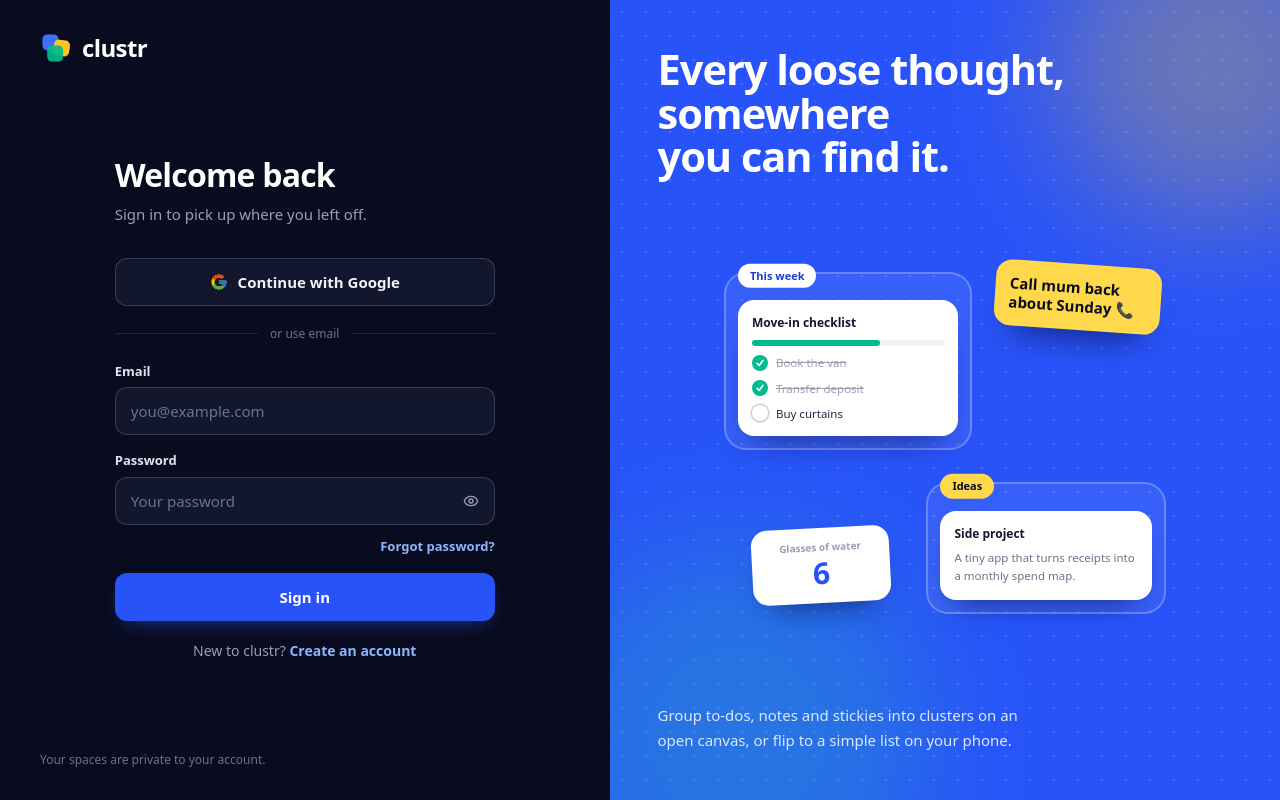
Scenario: sign-in guard › asks new users to confirm their email instead of opening a workspace
Click the button "Create an account" at [353, 651], box top-left (289, 641), bottom-right (416, 661)
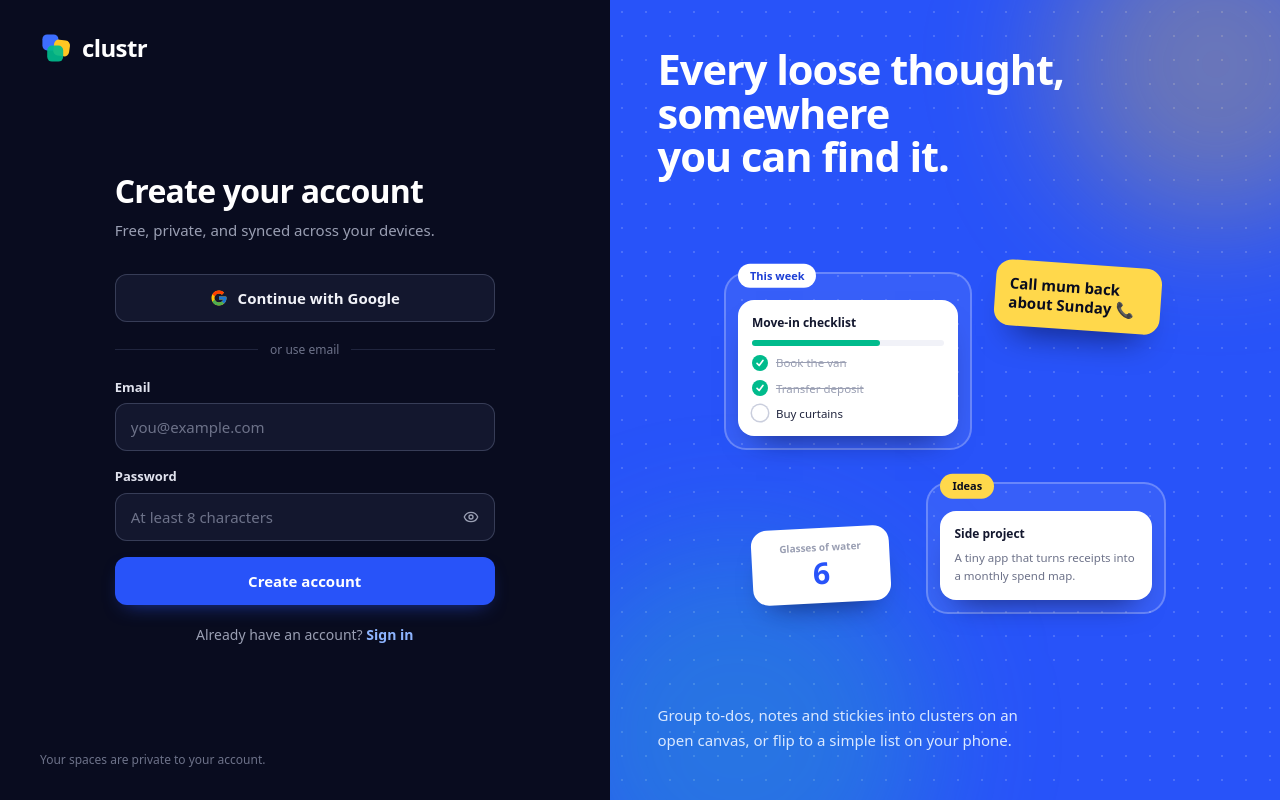
Type " new@example.test " into the field labelled "Email" at [305, 427], box top-left (115, 403), bottom-right (495, 451)
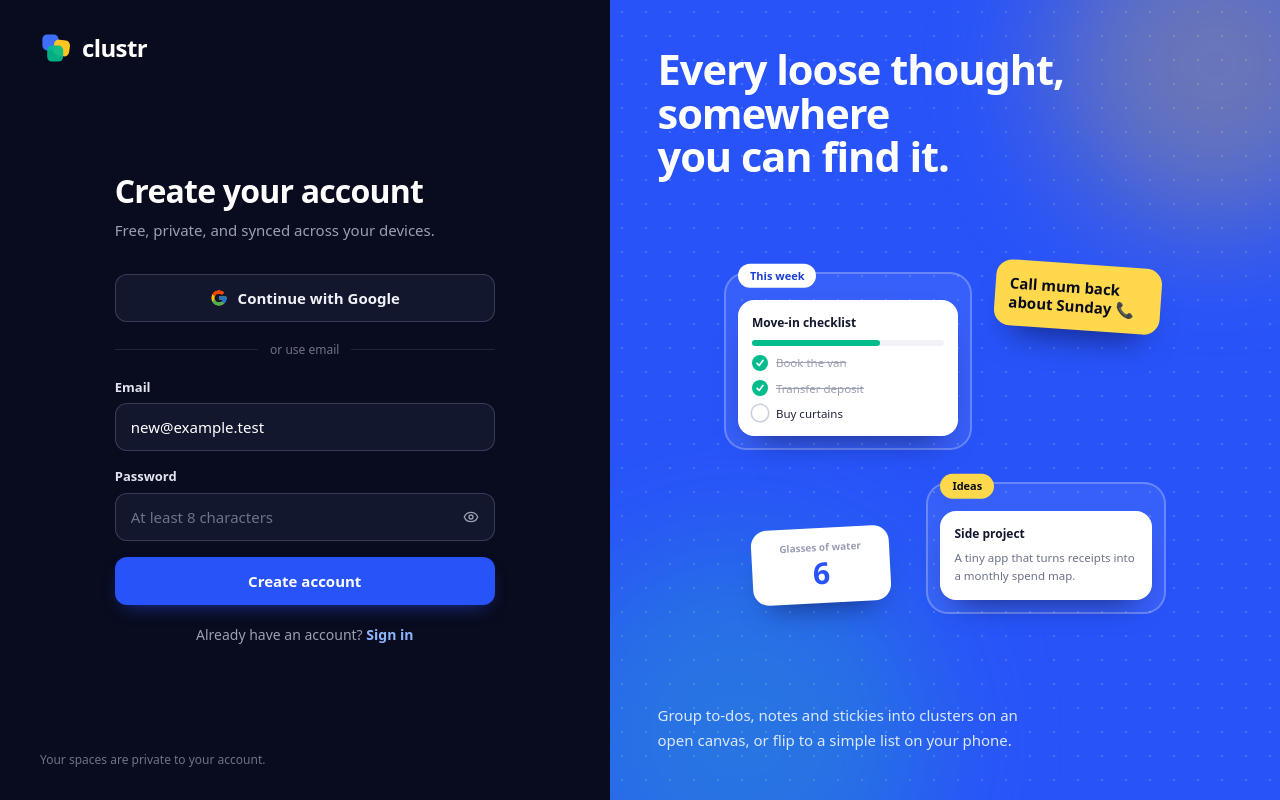
Type "secret-pass" into the password field labelled "Password" at [305, 517], box top-left (115, 493), bottom-right (495, 541)
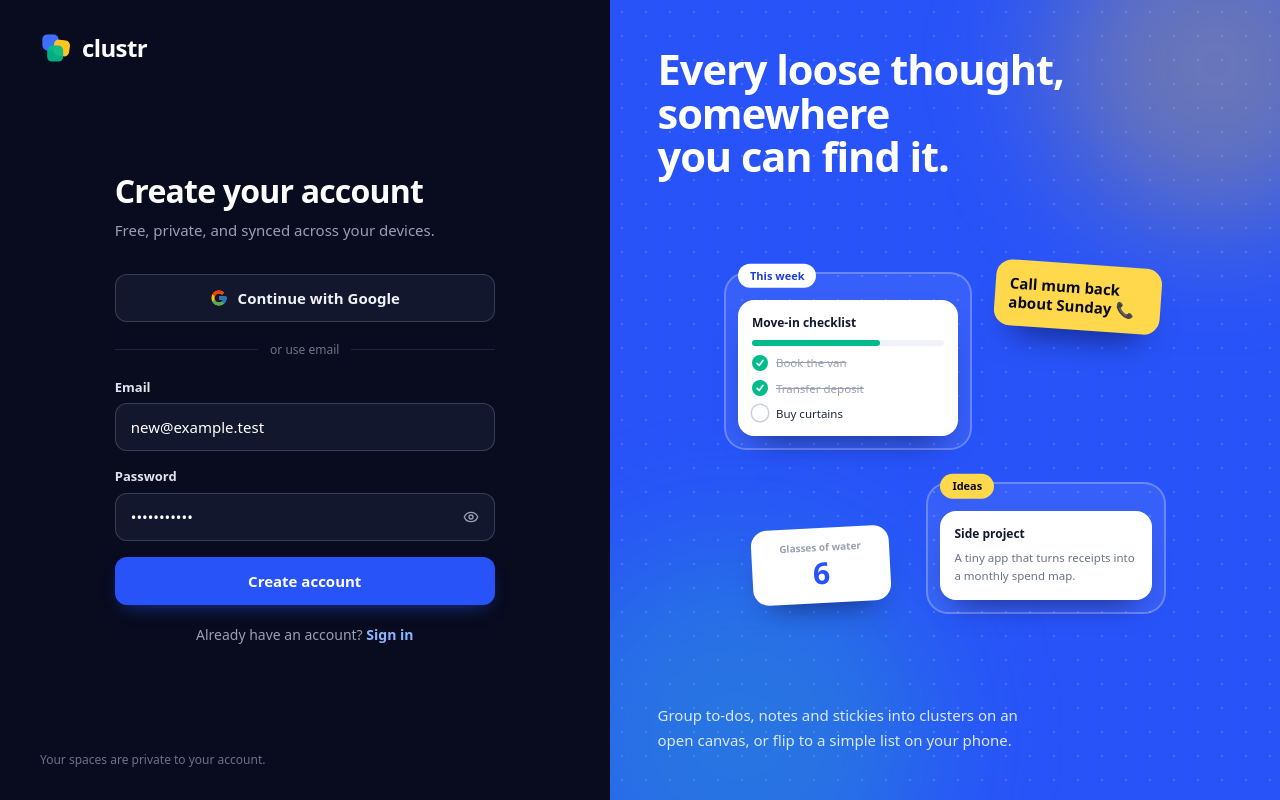
Click the button "Create account" at [305, 581], box top-left (115, 557), bottom-right (495, 605)
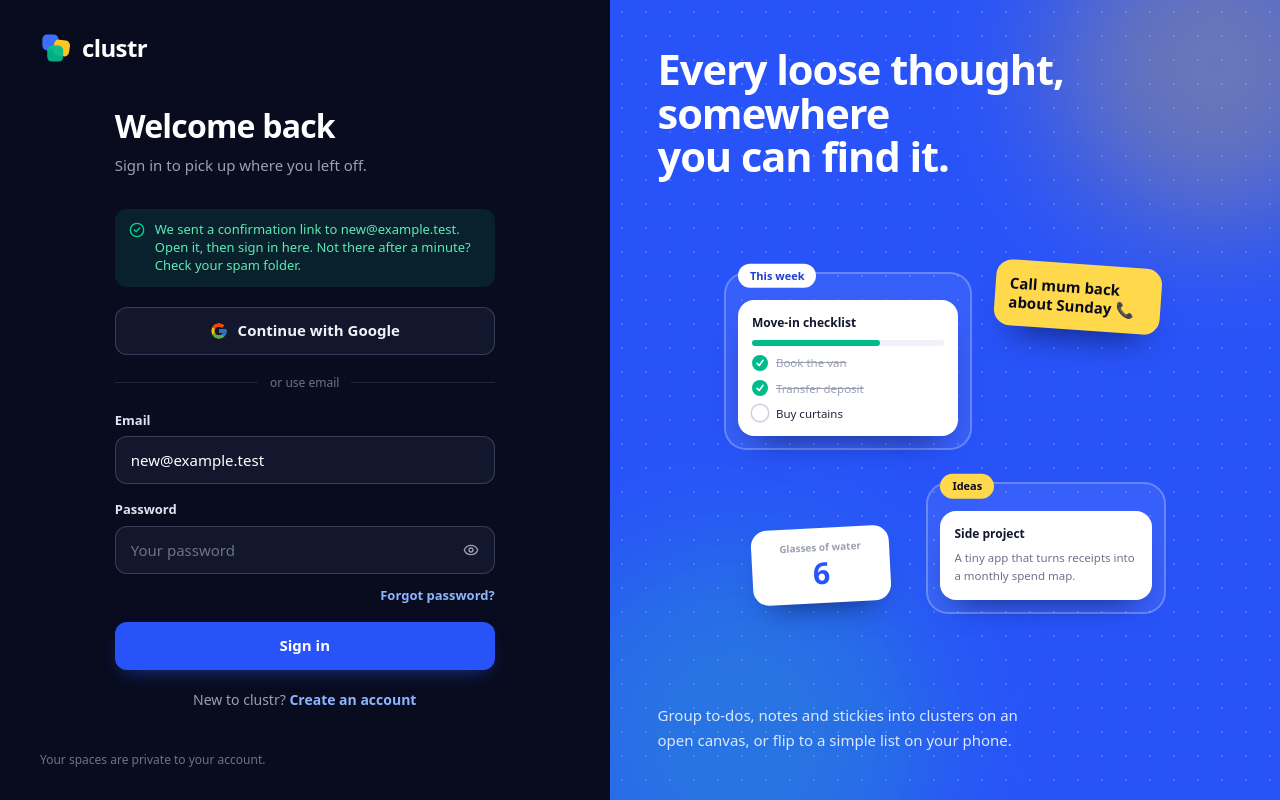
Expected: the text "We sent a confirmation link" is shown, top-left (155, 220), bottom-right (471, 274)
